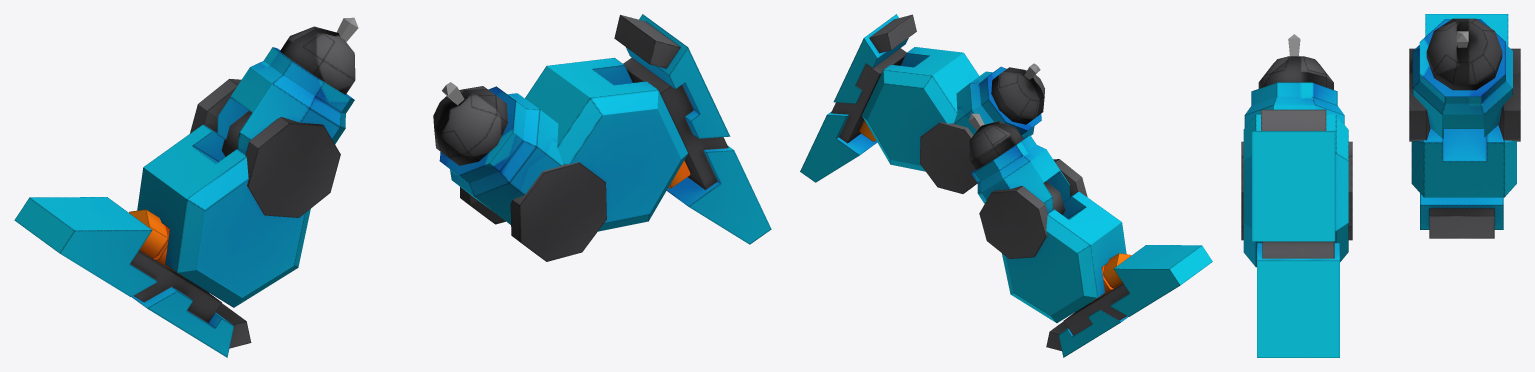
Rendered from Bottom_Running40.obj.
3 views of the same model, side by side, from view 1: azimuth 30°, elevation 25°; view 2: azimuth 150°, elevation 25°; view 3: azimuth 270°, elevation 25° (orthographic). The views are drawn at different scales.
Visible parts, largest first — view 1: Object010, Object013, Object011, Object014, Object012, Object009; view 2: Object010, Object013, Object011, Object014, Object009, Object012; view 3: Object014, Object009, Object010, Object011, Object013, Object012, Bone023.
Boxes of the visible parts, x1,y1,x2,y2 form: Object010: [137, 79, 340, 307]; Object013: [460, 57, 688, 261]; Object011: [14, 197, 251, 357]; Object014: [614, 14, 771, 244]; Object012: [433, 86, 563, 224]; Object009: [217, 26, 355, 154]; Object010: [979, 159, 1126, 322]; Object013: [862, 47, 978, 193]; Object011: [1046, 245, 1212, 357]; Object014: [800, 14, 916, 182]; Object009: [969, 121, 1070, 212]; Object012: [953, 66, 1044, 137]; Object014: [1252, 109, 1339, 357]; Object009: [1412, 18, 1512, 138]; Object010: [1409, 48, 1520, 197]; Object011: [1420, 14, 1508, 238]; Object013: [1241, 114, 1352, 267]; Object012: [1244, 56, 1344, 127]; Bone023: [1288, 34, 1300, 56].
Size of the model in its own units: 223 by 102 by 94.84.
